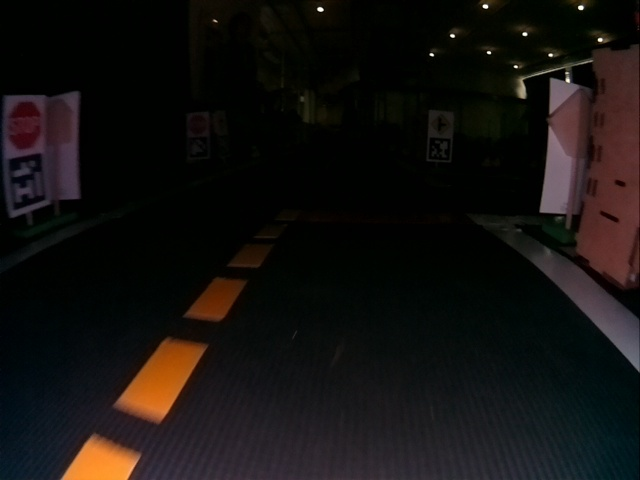Intersection sign: (430, 112, 452, 135)
QR code: (8, 153, 47, 212), (428, 136, 451, 161), (188, 137, 209, 158)
Stop sign: (8, 101, 42, 149), (188, 115, 208, 134)
